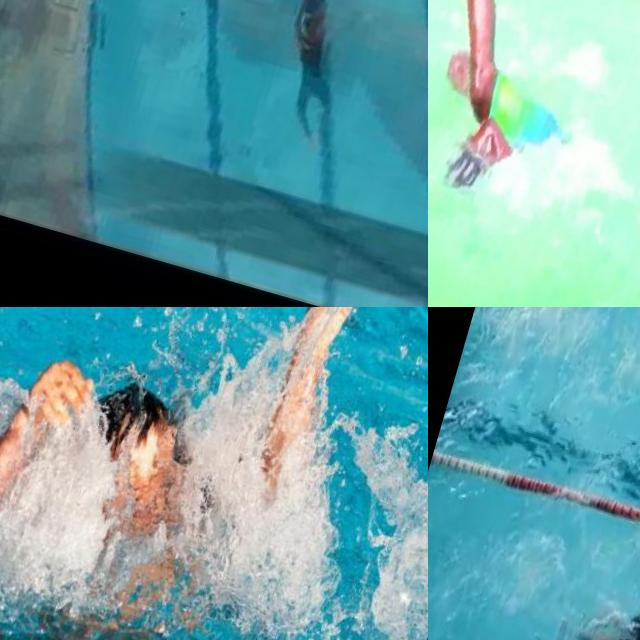drowning: (0, 307, 411, 640)
swimming: (428, 0, 640, 251), (242, 0, 368, 160)
